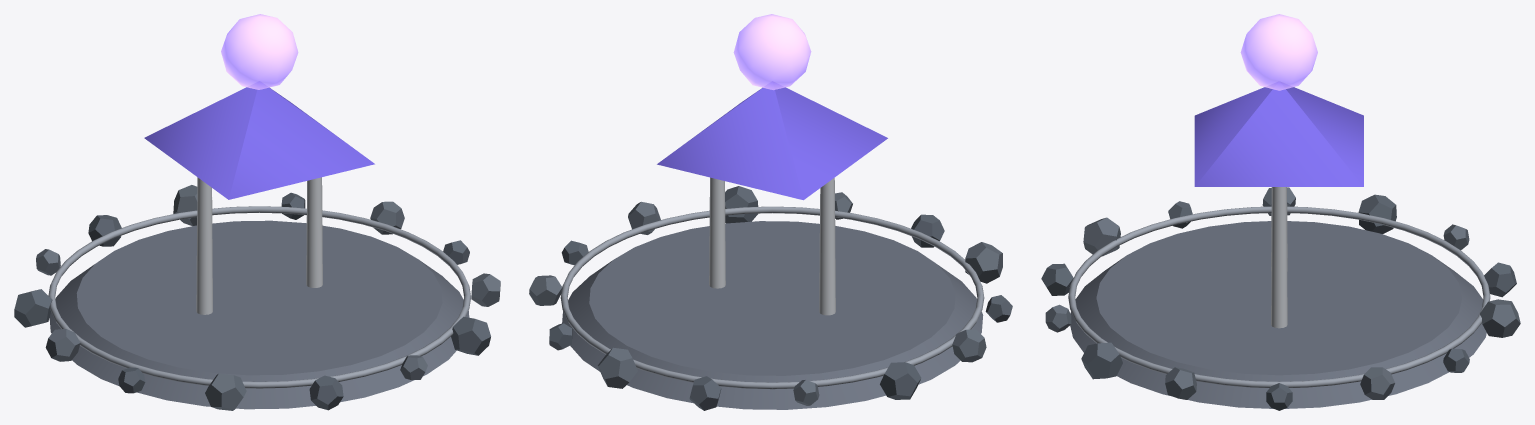
The model's file is unit02.glb.
3 views of the same model, side by side, from view 1: azimuth 30°, elevation 25°; view 2: azimuth 150°, elevation 25°; view 3: azimuth 270°, elevation 25° (orthographic).
Visible parts, largest first — view 1: rw3_unit02_pavilion, Crystal; view 2: rw3_unit02_pavilion, Crystal; view 3: rw3_unit02_pavilion, Crystal.
Part boxes in pixels (x1,y1,x2,y2): rw3_unit02_pavilion: (14, 87, 500, 410); Crystal: (221, 14, 298, 89); rw3_unit02_pavilion: (529, 87, 1012, 410); Crystal: (733, 14, 811, 90); rw3_unit02_pavilion: (1041, 87, 1520, 410); Crystal: (1240, 14, 1317, 90).
Size of the model in its own units: 6.84 by 4.75 by 6.81.
